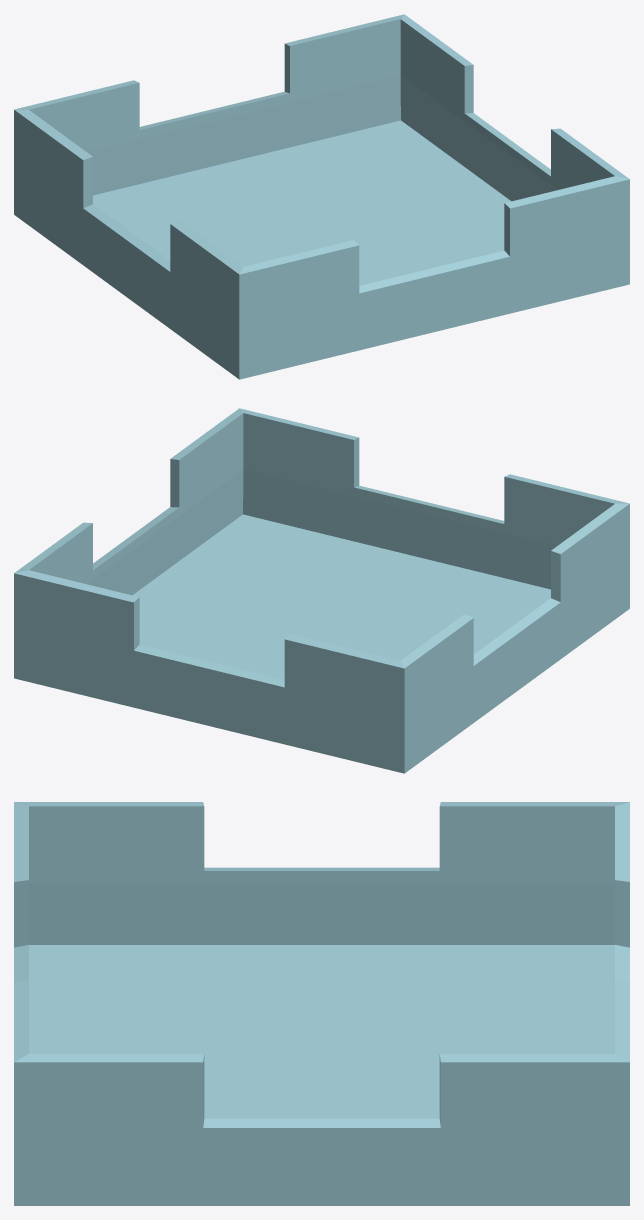
The model's file is city.obj.
3 views of the same model, one above another, from view 1: azimuth 30°, elevation 25°; view 2: azimuth 150°, elevation 25°; view 3: azimuth 270°, elevation 25° (orthographic). The views are drawn at different scales.
Visible parts, largest first — view 1: city_towerSquare_middleC; view 2: city_towerSquare_middleC; view 3: city_towerSquare_middleC.
Boxes of the visible parts, bbox=[...] form: city_towerSquare_middleC: bbox=[14, 14, 629, 379]; city_towerSquare_middleC: bbox=[14, 408, 629, 773]; city_towerSquare_middleC: bbox=[14, 802, 629, 1205].
Bounding box in the file's own units: 1 × 0.2609 × 1.
